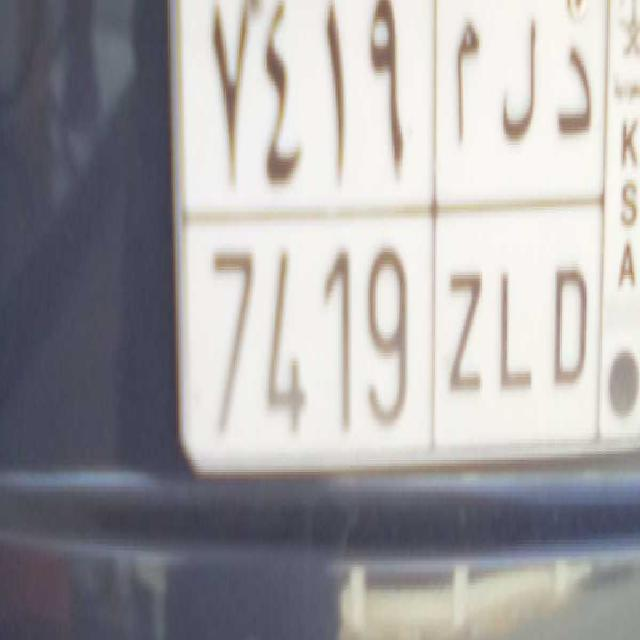license_plate: (195, 207, 597, 456)
